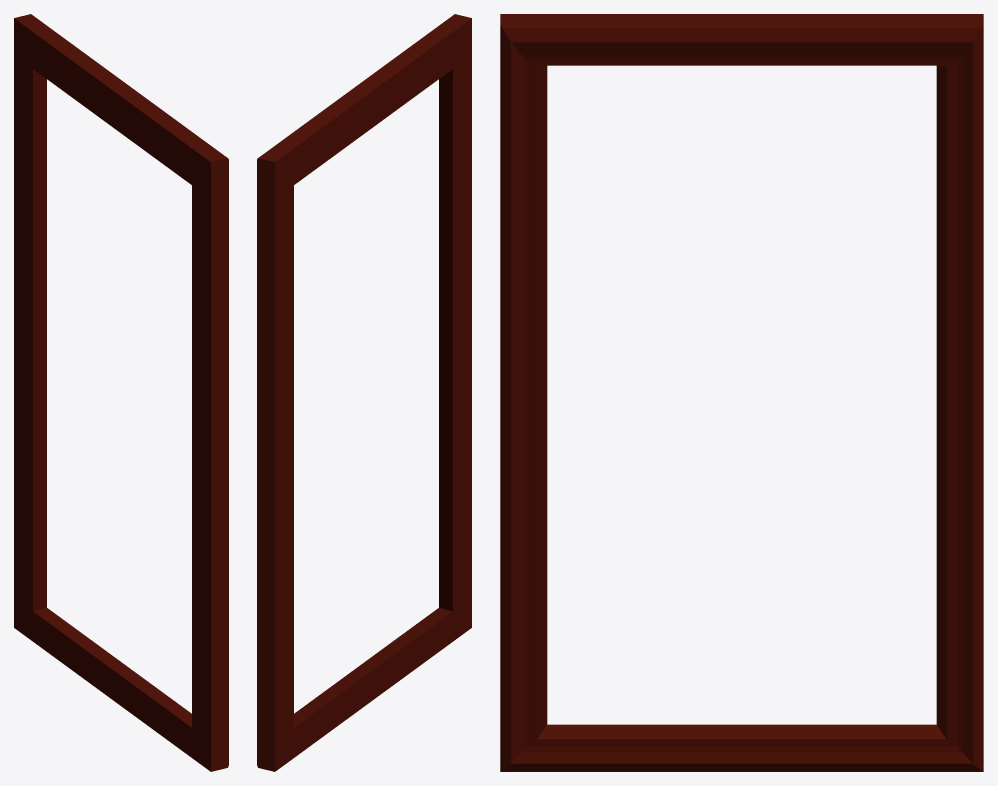
The model's file is Mirror.fbx.
3 views of the same model, side by side, from view 1: azimuth 30°, elevation 25°; view 2: azimuth 150°, elevation 25°; view 3: azimuth 270°, elevation 25° (orthographic). The views are drawn at different scales.
Parts seen in each view (by area): view 1: Cube; view 2: Cube; view 3: Cube.
Part boxes in pixels (box(x1,y1,x2,y2)): Cube: box(14, 14, 228, 771); Cube: box(257, 14, 471, 771); Cube: box(500, 14, 983, 771).
Bounding box in the file's own units: 19.89 × 533 × 312.
